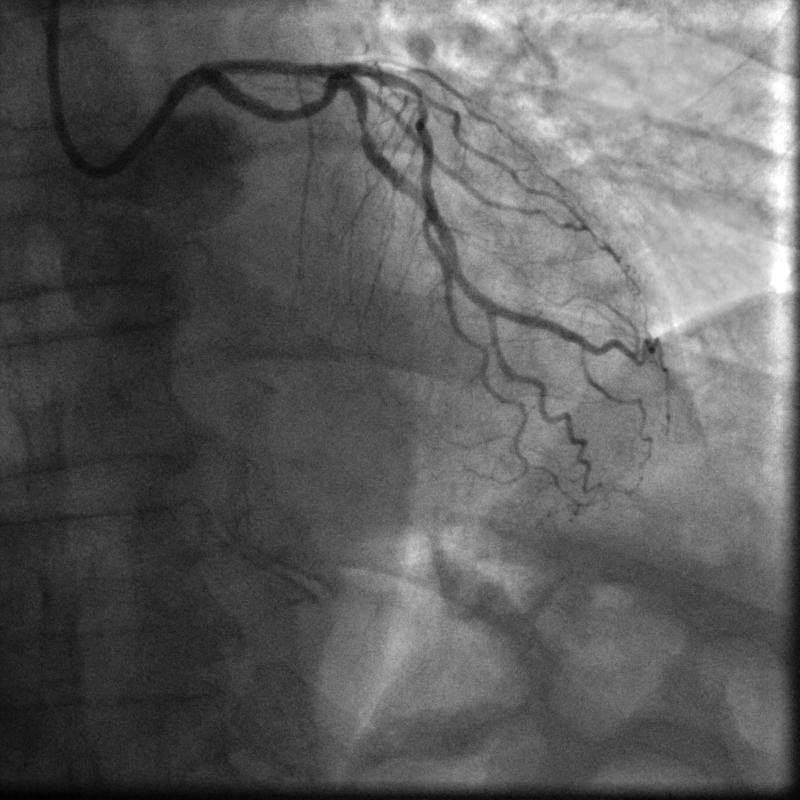Stenosis: (358, 118, 369, 136)
